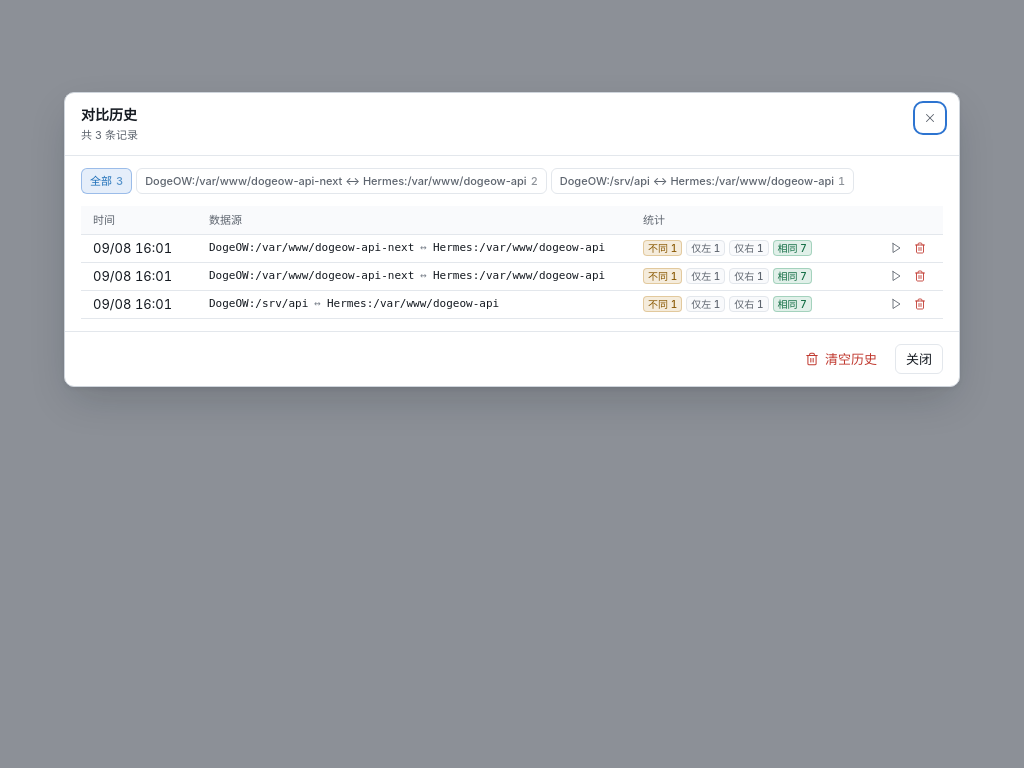
Test case: HistoryDialog › filters history entries by the same host and directory combination
Click the button "DogeOW:/var/www/dogeow-api-next ↔ Hermes:/var/www/dogeow-api".
click(341, 181)  # box [136,168,547,194]
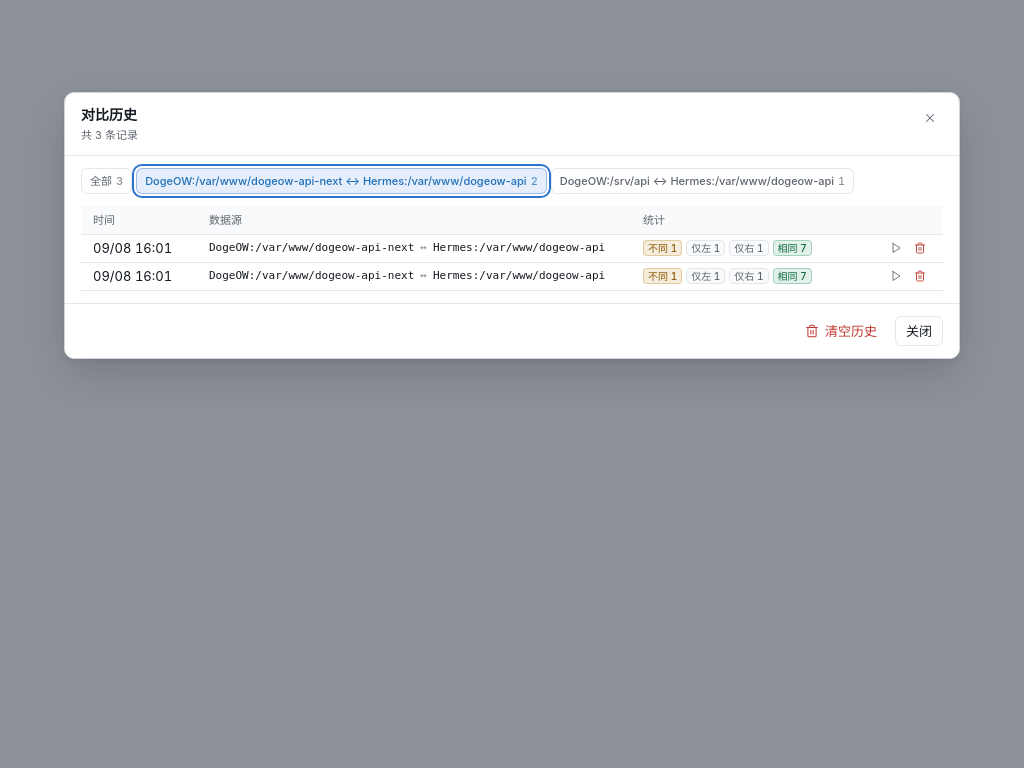
expect the number of elements titled "DogeOW:/var/www/dogeow-api-next ↔ Hermes:/var/www/dogeow-api" is 2: met, box [209,241,605,254]; [209,269,605,282]
